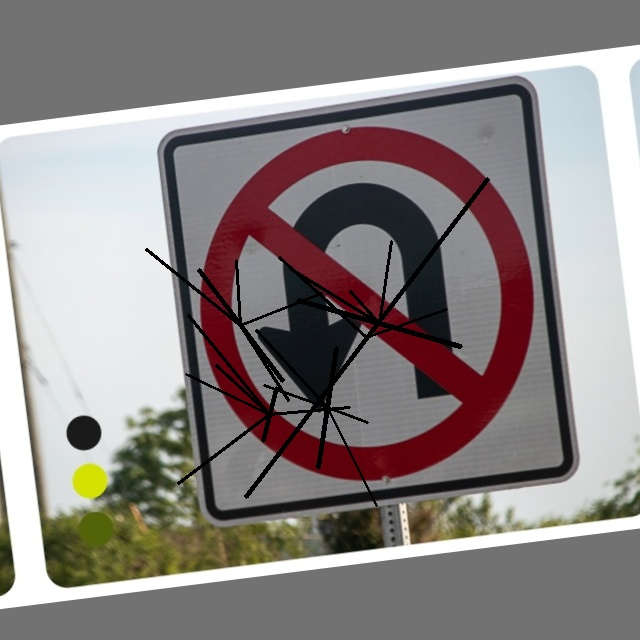U_Turn_Prohibited: (180, 101, 566, 507)
